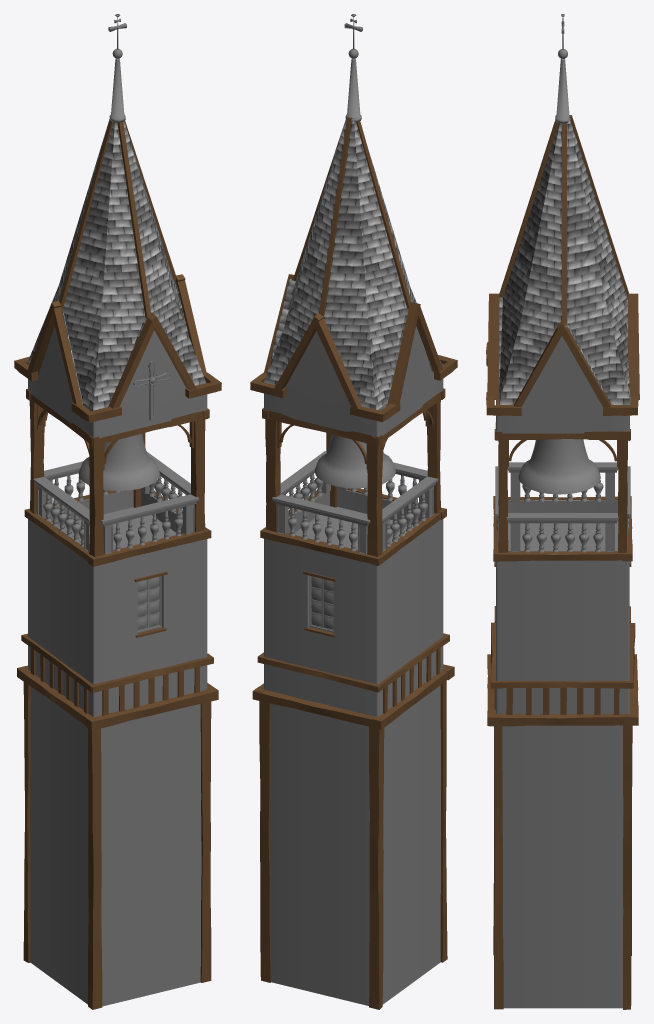
File: SM_churchtower.fbx
3 views of the same model, side by side, from view 1: azimuth 30°, elevation 25°; view 2: azimuth 150°, elevation 25°; view 3: azimuth 270°, elevation 25° (orthographic).
Parts seen in each view (by area): view 1: Object32709; view 2: Object32709; view 3: Object32709.
Part boxes in pixels (<box>): Object32709: <box>14,14,221,1009</box>; Object32709: <box>250,14,457,1009</box>; Object32709: <box>486,14,639,1009</box>.
Size of the model in its own units: 162 by 1106 by 160.
7 materials, 1 textured.
